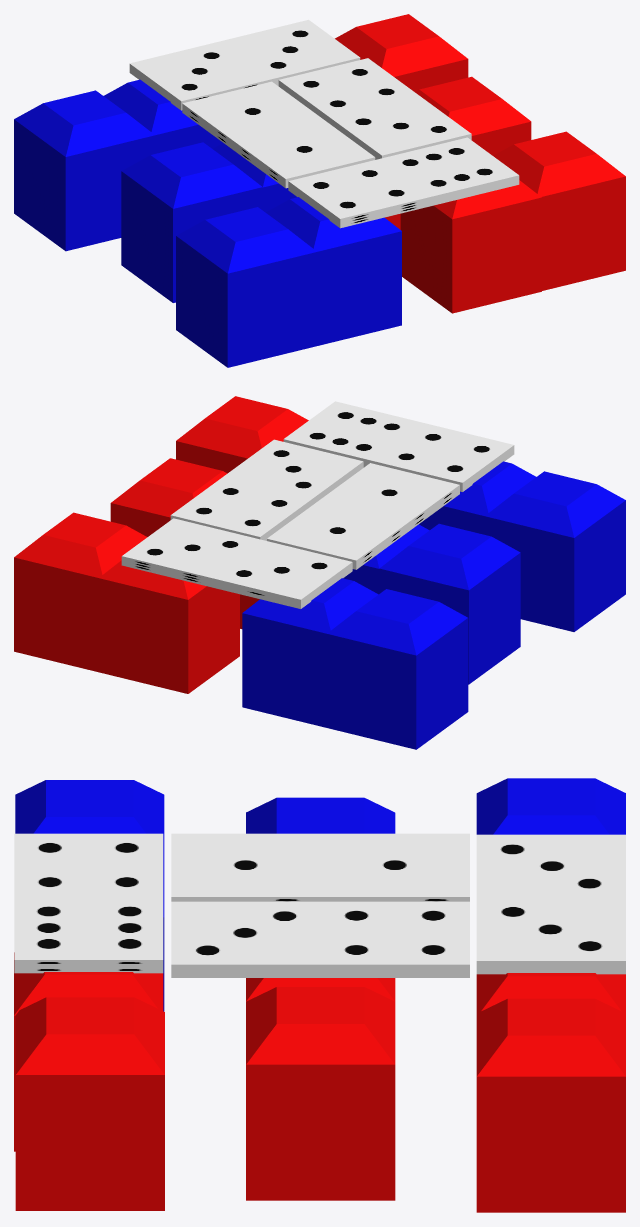
File: blocks_7.glb
3 renders of one model, top to bottom at view 1: azimuth 30°, elevation 25°; view 2: azimuth 150°, elevation 25°; view 3: azimuth 270°, elevation 25°, orthographic. The views are drawn at different scales.
Parts seen in each view (by area): view 1: Cube.016, Cube.019, Cube.015, Cube.014, Cube.008, Cube.017, Cube.002, Cube.013, Cube.001, Cube, Cube.004, Cube.006 (+6 smaller); view 2: Cube.019, Cube.016, Cube.012, Cube.013, Cube.008, Cube.018, Cube.004, Cube.014, Cube.003, Cube.005, Cube.002, Cube.007 (+6 smaller); view 3: Cube.013, Cube.010, Cube.014, Cube.006, Cube.007, Cube.001, Cube.003, Cube, Cube.005, Cube.002, Cube.004, Cube.019 (+5 smaller).
Boxes of the visible parts, x1,y1,x2,y2 form: Cube.016: [176, 207, 316, 367]; Cube.019: [14, 90, 155, 251]; Cube.015: [400, 180, 541, 313]; Cube.014: [493, 131, 625, 290]; Cube.008: [121, 142, 262, 302]; Cube.017: [266, 197, 401, 346]; Cube.002: [288, 159, 429, 228]; Cube.013: [335, 14, 468, 91]; Cube.001: [378, 137, 519, 206]; Cube: [234, 119, 375, 188]; Cube.004: [129, 41, 270, 110]; Cube.006: [330, 96, 471, 159]; Cube.019: [327, 589, 468, 749]; Cube.016: [488, 471, 625, 631]; Cube.012: [98, 560, 239, 693]; Cube.013: [14, 512, 147, 672]; Cube.008: [379, 523, 520, 684]; Cube.018: [242, 578, 378, 727]; Cube.004: [211, 540, 352, 608]; Cube.014: [176, 396, 308, 473]; Cube.003: [121, 518, 262, 586]; Cube.005: [267, 501, 407, 569]; Cube.002: [373, 423, 514, 491]; Cube.007: [170, 477, 311, 540]; Cube.013: [476, 998, 625, 1212]; Cube.010: [246, 987, 395, 1200]; Cube.014: [15, 997, 164, 1210]; Cube.006: [171, 901, 320, 977]; Cube.007: [320, 901, 469, 977]; Cube.001: [14, 896, 163, 973]; Cube.003: [476, 897, 625, 974]; Cube: [171, 833, 320, 901]; Cube.005: [320, 833, 469, 901]; Cube.002: [14, 833, 163, 896]; Cube.004: [476, 834, 625, 897]; Cube.019: [476, 778, 625, 834].
Size of the model in its own units: 8.99 by 2.61 by 8.2.
Materials: 13 (1 with a texture image).
